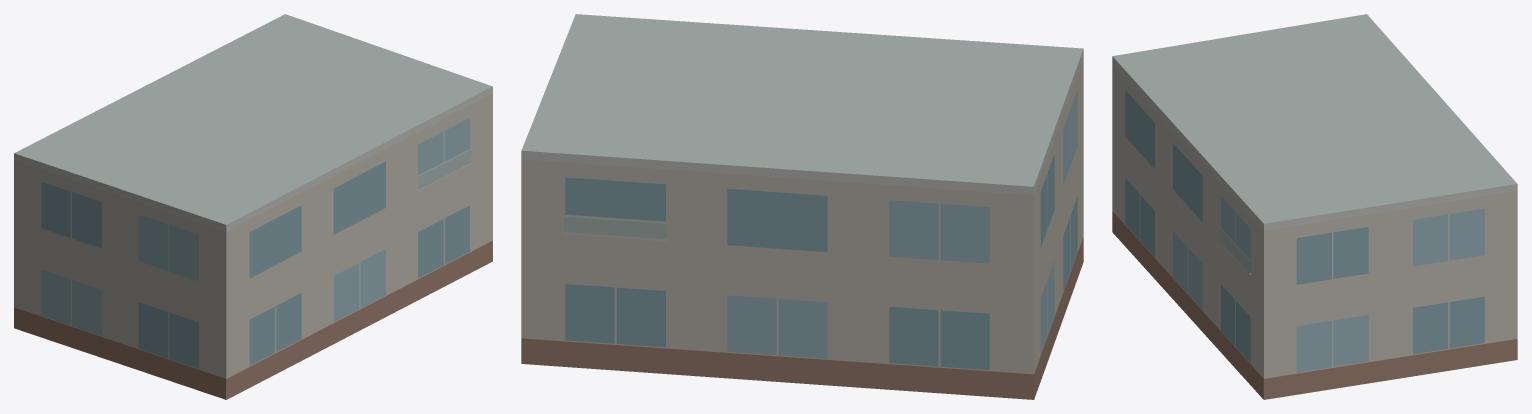
File: survey-upis-32961847.glb
The picture shows the model from 3 angles, left to right: view 1: azimuth 30°, elevation 25°; view 2: azimuth 150°, elevation 25°; view 3: azimuth 270°, elevation 25°; orthographic projection. The views are drawn at different scales.
Parts seen in each view (by area): view 1: survey-upis-32961847.tmp; view 2: survey-upis-32961847.tmp; view 3: survey-upis-32961847.tmp.
Part boxes in pixels (x1,y1,x2,y2): survey-upis-32961847.tmp: [14, 14, 492, 399]; survey-upis-32961847.tmp: [521, 14, 1083, 399]; survey-upis-32961847.tmp: [1112, 14, 1517, 399].
Size of the model in its own units: 15.6 by 6.1 by 12.73.
